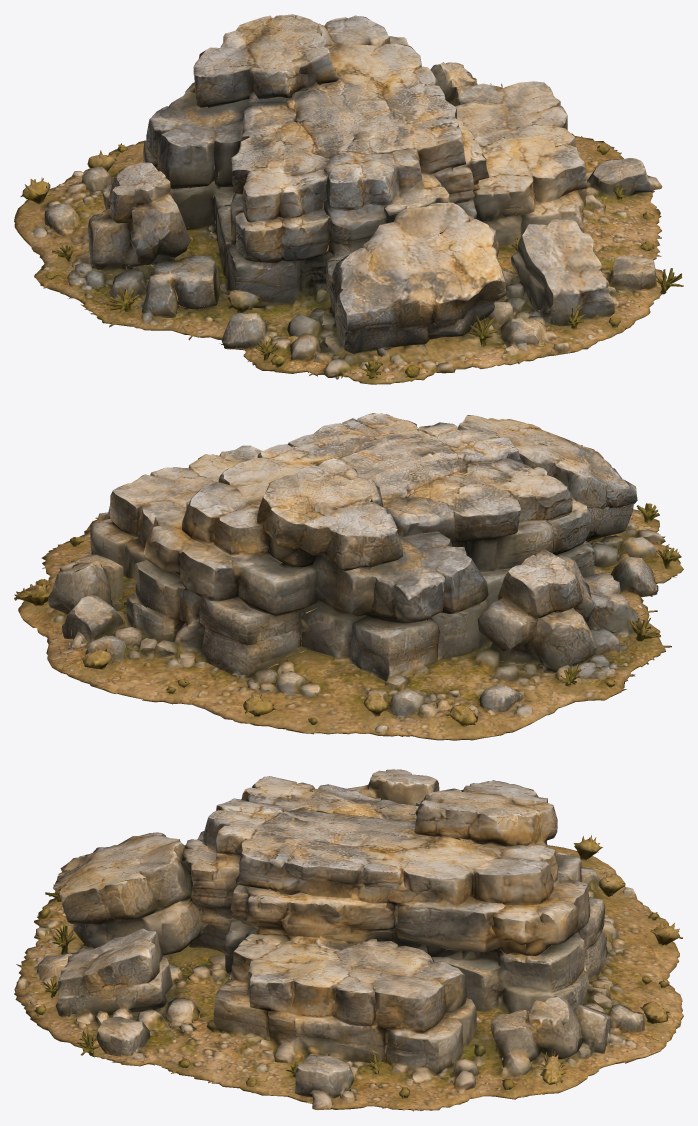
File: SM_YacimientoPiedra.fbx
3 renders of one model, top to bottom at view 1: azimuth 30°, elevation 25°; view 2: azimuth 150°, elevation 25°; view 3: azimuth 270°, elevation 25°, orthographic.
Parts seen in each view (by area): view 1: SM_YacimientoPiedra; view 2: SM_YacimientoPiedra; view 3: SM_YacimientoPiedra.
Boxes of the visible parts, bbox=[...] form: SM_YacimientoPiedra: bbox=[14, 14, 683, 384]; SM_YacimientoPiedra: bbox=[14, 413, 683, 740]; SM_YacimientoPiedra: bbox=[14, 769, 683, 1111].
Bounding box in the file's own units: 99.98 × 27.4 × 99.39.
1 material, 1 textured.
